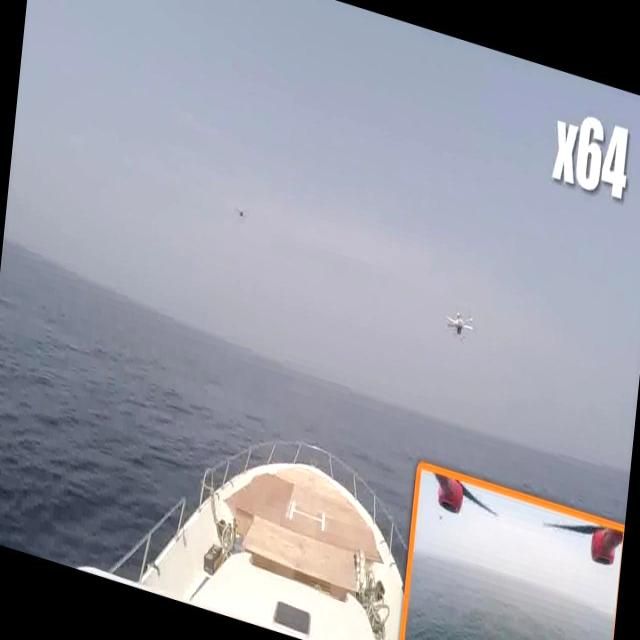drone: (438, 296, 479, 353), (235, 202, 252, 224)
